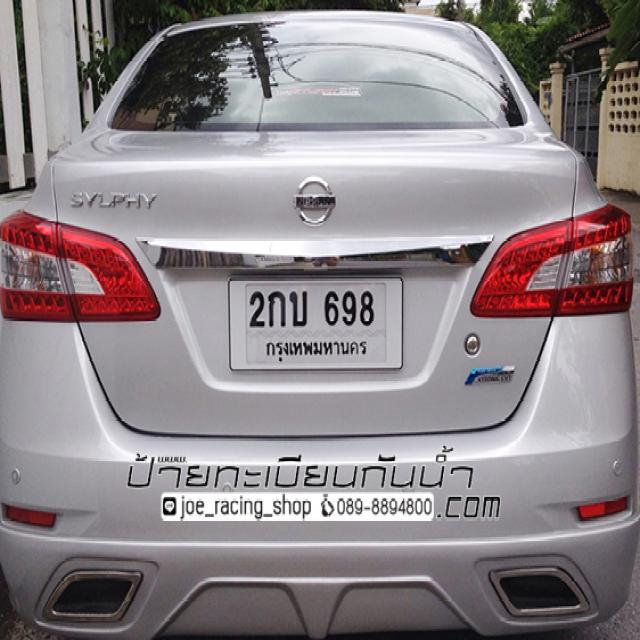license_plate: (229, 275, 406, 373)
